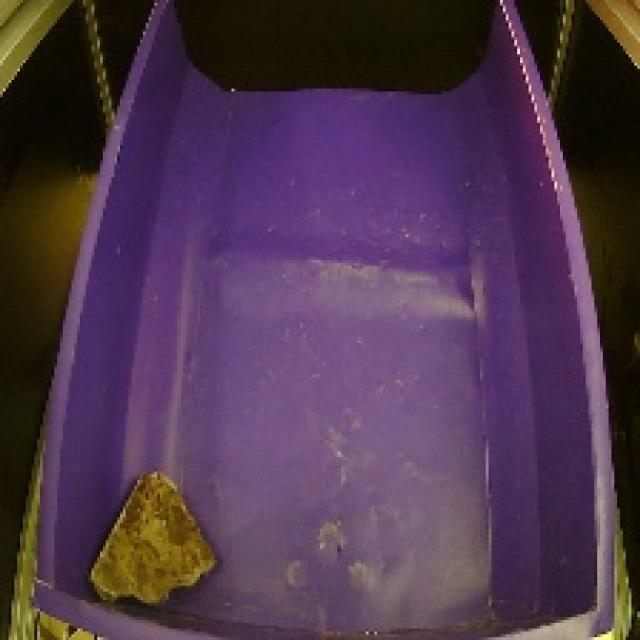china: (79, 453, 222, 612)
